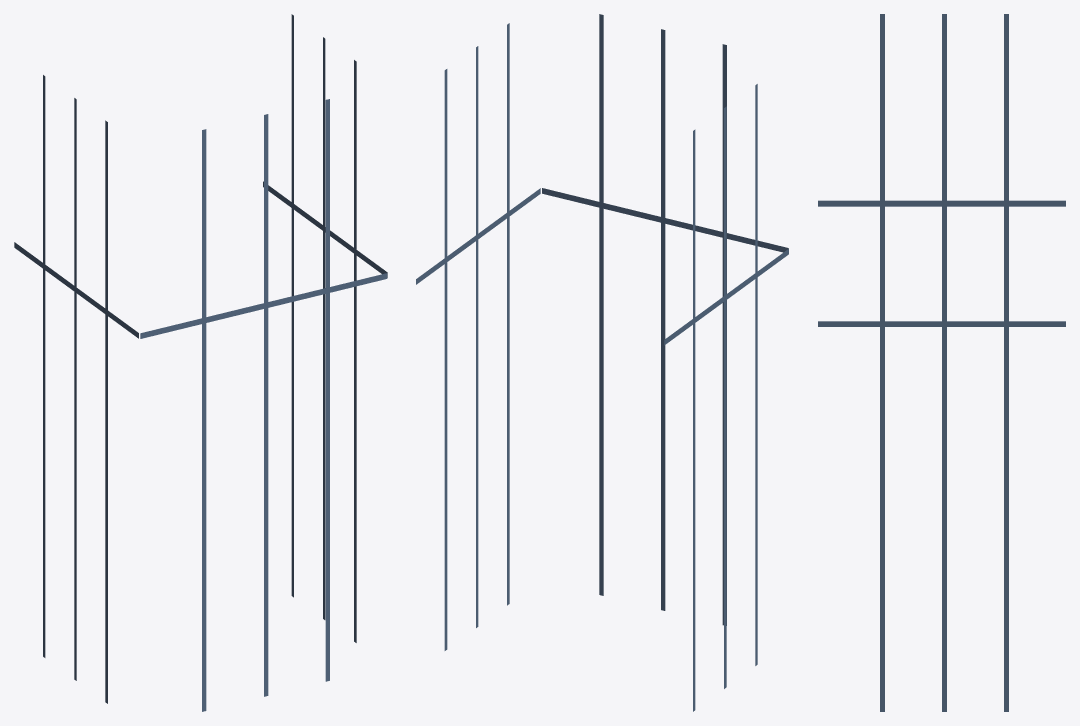
Rendered from SM_MM_W08_Facade.fbx.
3 views of the same model, side by side, from view 1: azimuth 30°, elevation 25°; view 2: azimuth 150°, elevation 25°; view 3: azimuth 270°, elevation 25° (orthographic).
Visible parts, largest first — view 1: SM_MM_W08_Facade; view 2: SM_MM_W08_Facade; view 3: SM_MM_W08_Facade.
Boxes of the visible parts, x1,y1,x2,y2 form: SM_MM_W08_Facade: [14, 14, 387, 711]; SM_MM_W08_Facade: [416, 14, 788, 711]; SM_MM_W08_Facade: [818, 14, 1065, 711].
Size of the model in its own units: 8.05 by 7.03 by 18.
